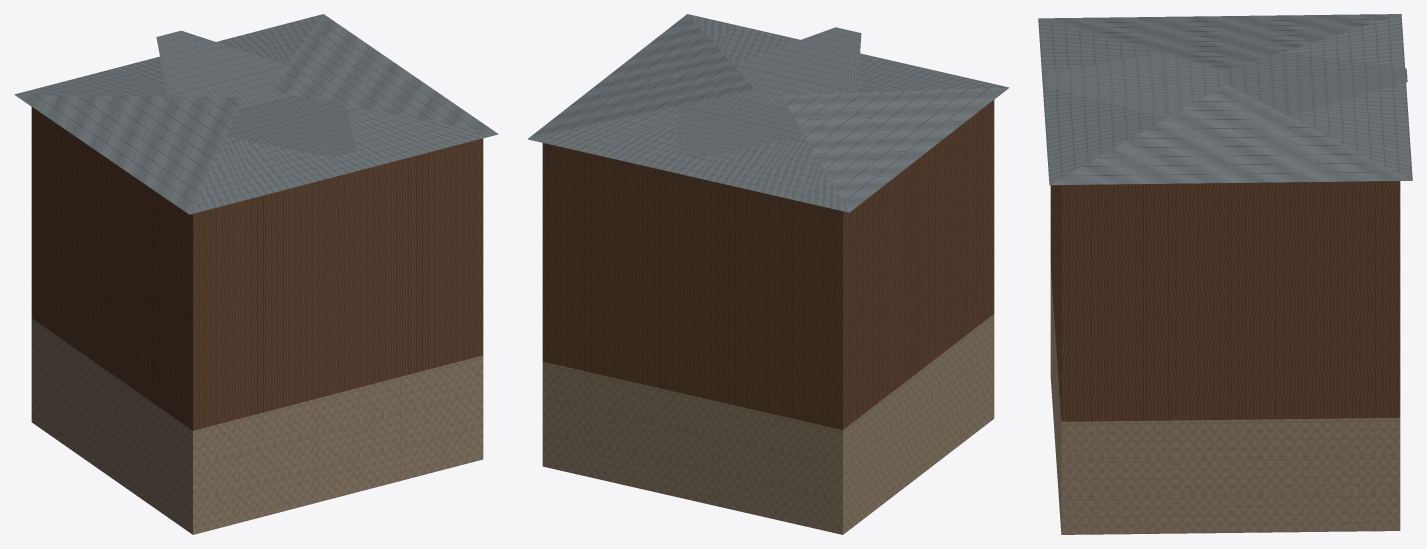
The model's file is bld_c43_33_264.gltf.
3 views of the same model, side by side, from view 1: azimuth 30°, elevation 25°; view 2: azimuth 150°, elevation 25°; view 3: azimuth 270°, elevation 25° (orthographic). The views are drawn at different scales.
Parts seen in each view (by area): view 1: bld_c43_33_264; view 2: bld_c43_33_264; view 3: bld_c43_33_264.
Part boxes in pixels (<box>): bld_c43_33_264: <box>14,14,498,534</box>; bld_c43_33_264: <box>527,14,1009,534</box>; bld_c43_33_264: <box>1038,14,1412,534</box>.
Size of the model in its own units: 16.56 by 17 by 15.3.
3 materials, 3 textured.
